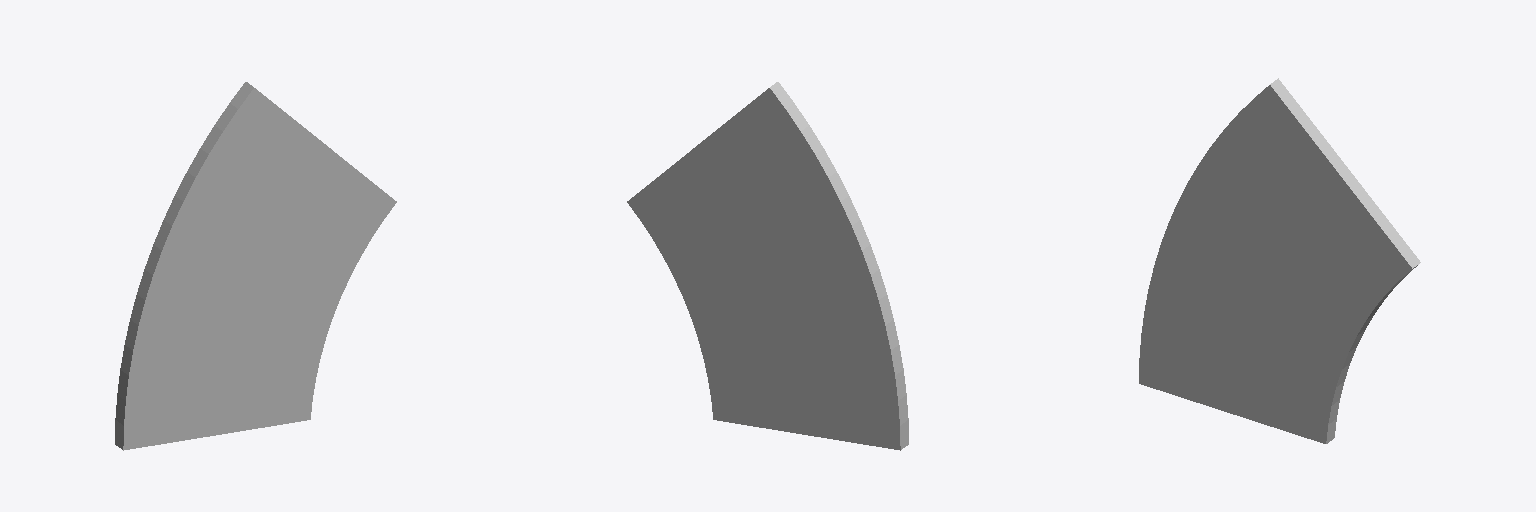
Rendered from DFlag Round Square C1.obj.
3 renders of one model, left to right at view 1: azimuth 30°, elevation 25°; view 2: azimuth 150°, elevation 25°; view 3: azimuth 330°, elevation 25°, orthographic.
Parts seen in each view (by area): view 1: DFlag_Round_Square_C1; view 2: DFlag_Round_Square_C1; view 3: DFlag_Round_Square_C1.
Boxes of the visible parts, box(x1,y1,x2,y2) form: DFlag_Round_Square_C1: box(115, 82, 396, 450); DFlag_Round_Square_C1: box(627, 82, 908, 450); DFlag_Round_Square_C1: box(1139, 78, 1420, 443).
Bounding box in the file's own units: 0.0184 × 0.0222 × 0.001.